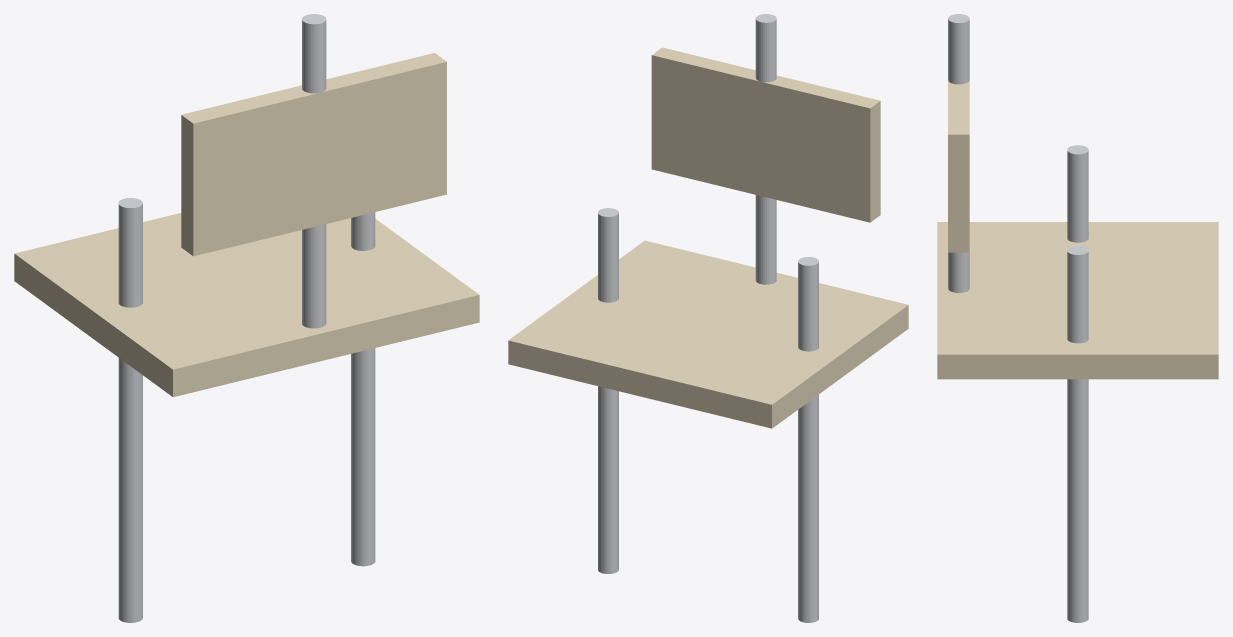
The model's file is chair_folding.glb.
The picture shows the model from 3 angles, left to right: view 1: azimuth 30°, elevation 25°; view 2: azimuth 150°, elevation 25°; view 3: azimuth 270°, elevation 25°; orthographic projection. The views are drawn at different scales.
Parts seen in each view (by area): view 1: Cube, Cube.001, Cylinder, Cylinder.001, Cylinder.002, Cylinder.003, Cylinder.004; view 2: Cube, Cube.001, Cylinder.001, Cylinder, Cylinder.003, Cylinder.002, Cylinder.004; view 3: Cube, Cylinder.002, Cylinder.003, Cube.001, Cylinder.004, Cylinder, Cylinder.001.
Part boxes in pixels (x1=…): Cube: x1=14, y1=213, x2=479, y2=397; Cube.001: x1=181, y1=53, x2=446, y2=256; Cylinder: x1=118, y1=198, x2=142, y2=622; Cylinder.001: x1=119, y1=198, x2=142, y2=622; Cylinder.002: x1=351, y1=212, x2=374, y2=566; Cylinder.003: x1=351, y1=212, x2=375, y2=566; Cylinder.004: x1=302, y1=14, x2=326, y2=328; Cube: x1=508, y1=240, x2=908, y2=428; Cube.001: x1=651, y1=47, x2=880, y2=222; Cylinder.001: x1=798, y1=257, x2=818, y2=622; Cylinder: x1=798, y1=257, x2=818, y2=622; Cylinder.003: x1=598, y1=208, x2=618, y2=573; Cylinder.002: x1=598, y1=208, x2=618, y2=573; Cylinder.004: x1=755, y1=14, x2=776, y2=284; Cube: x1=937, y1=222, x2=1218, y2=379; Cylinder.002: x1=1067, y1=246, x2=1088, y2=622; Cylinder.003: x1=1067, y1=246, x2=1088, y2=622; Cube.001: x1=948, y1=80, x2=969, y2=252; Cylinder.004: x1=948, y1=14, x2=969, y2=292; Cylinder: x1=1067, y1=145, x2=1088, y2=242; Cylinder.001: x1=1067, y1=145, x2=1088, y2=242.
Bounding box in the file's own units: 0.58 × 1.12 × 0.52.
